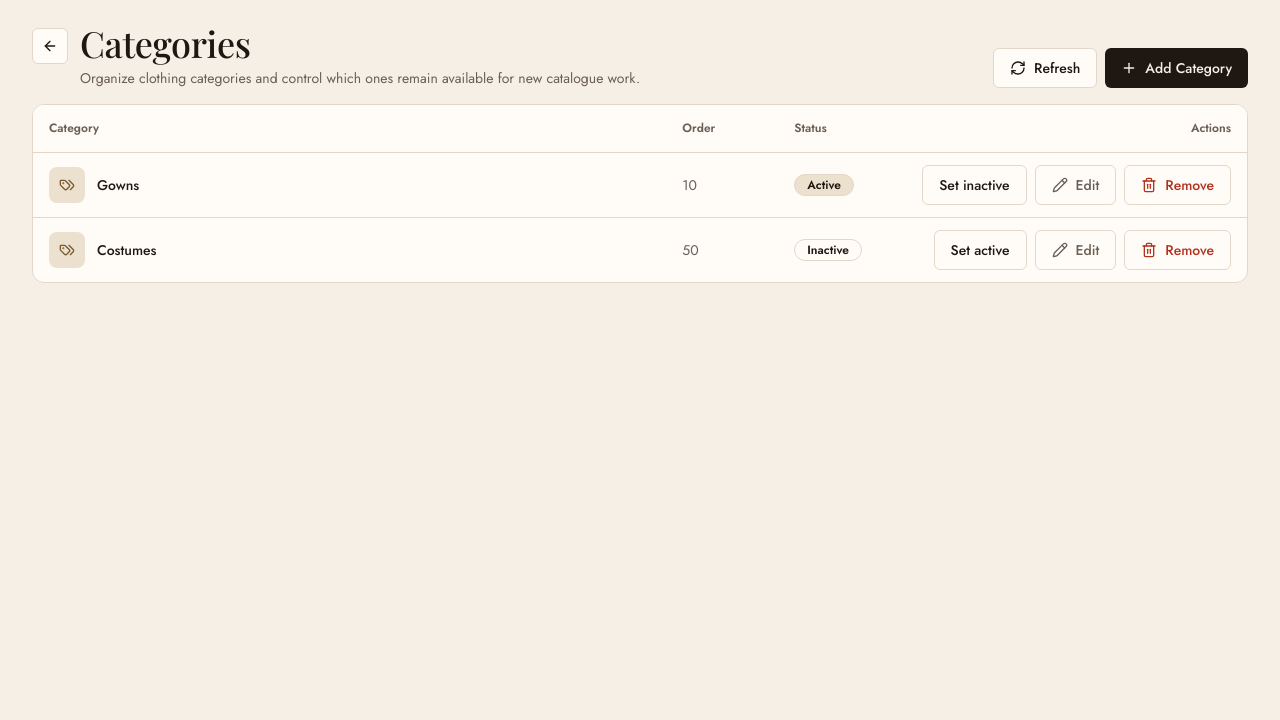
Test: CategoriesPage › edits a category from the modal
Expected: the text "Gowns" is shown, [97,175,139,195]
Click the button with aria-label "Edit Gowns".
click(1076, 185)  # box [1035,165,1116,205]
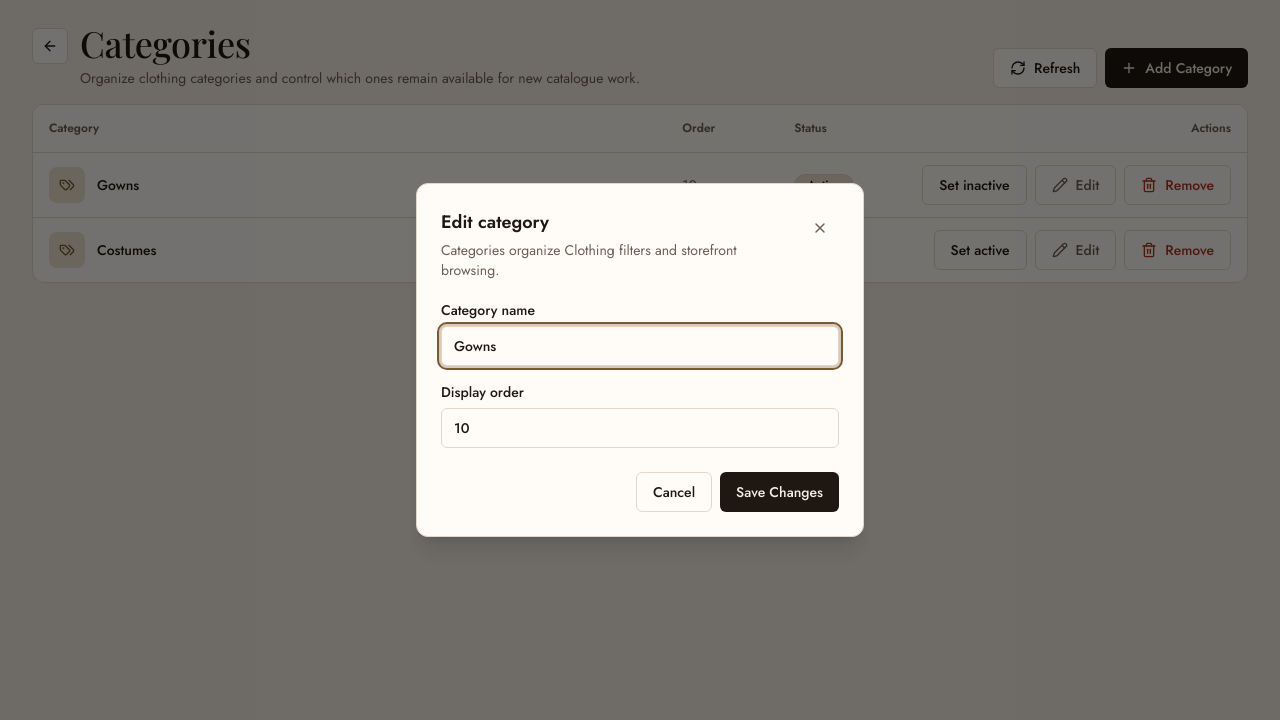
Replace the text in the field labelled "Category name" with "Evening Gowns" at (640, 346), box [441,326,839,366]
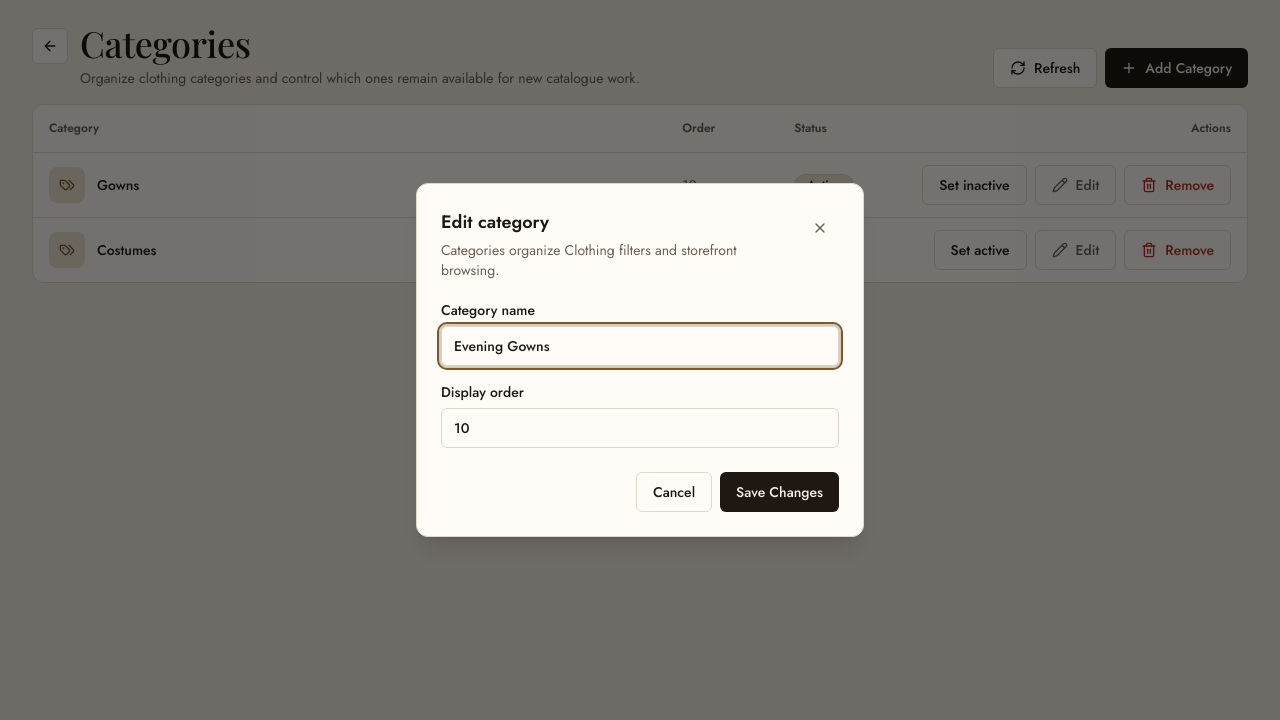
Click the button "Save Changes".
click(780, 492)  # box [720,472,839,512]
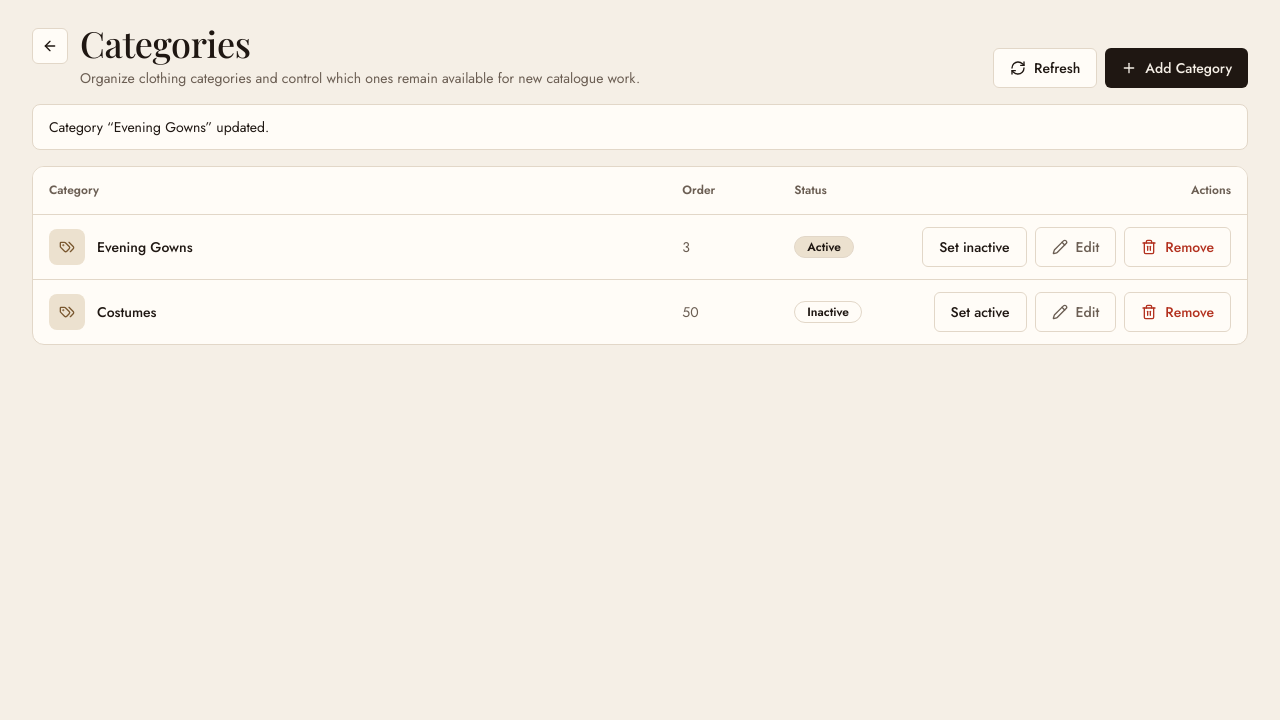
Expected: the text "Evening Gowns" is shown, [97,237,193,257]
